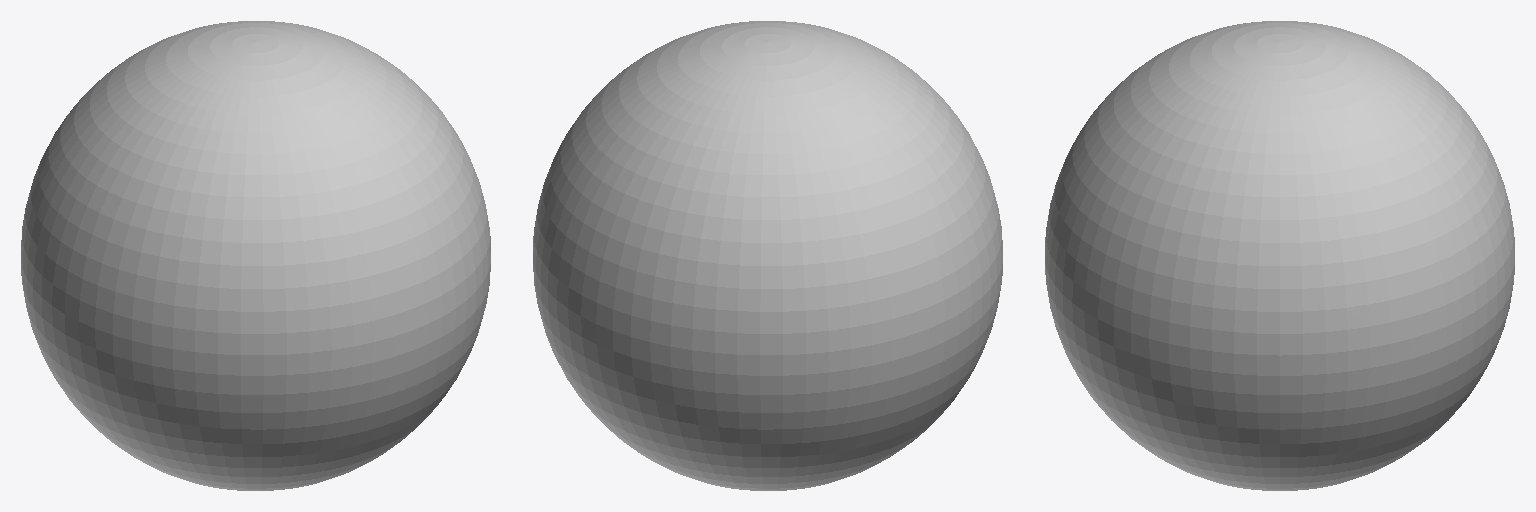
The model's file is mercury.obj.
The picture shows the model from 3 angles: view 1: azimuth 30°, elevation 25°; view 2: azimuth 150°, elevation 25°; view 3: azimuth 270°, elevation 25°; orthographic projection.
Parts seen in each view (by area): view 1: Esfera_UV; view 2: Esfera_UV; view 3: Esfera_UV.
Part boxes in pixels (x1,y1,x2,y2): Esfera_UV: (21, 21, 490, 490); Esfera_UV: (533, 21, 1002, 490); Esfera_UV: (1045, 21, 1514, 490).
Size of the model in its own units: 0.76 by 0.76 by 0.76.